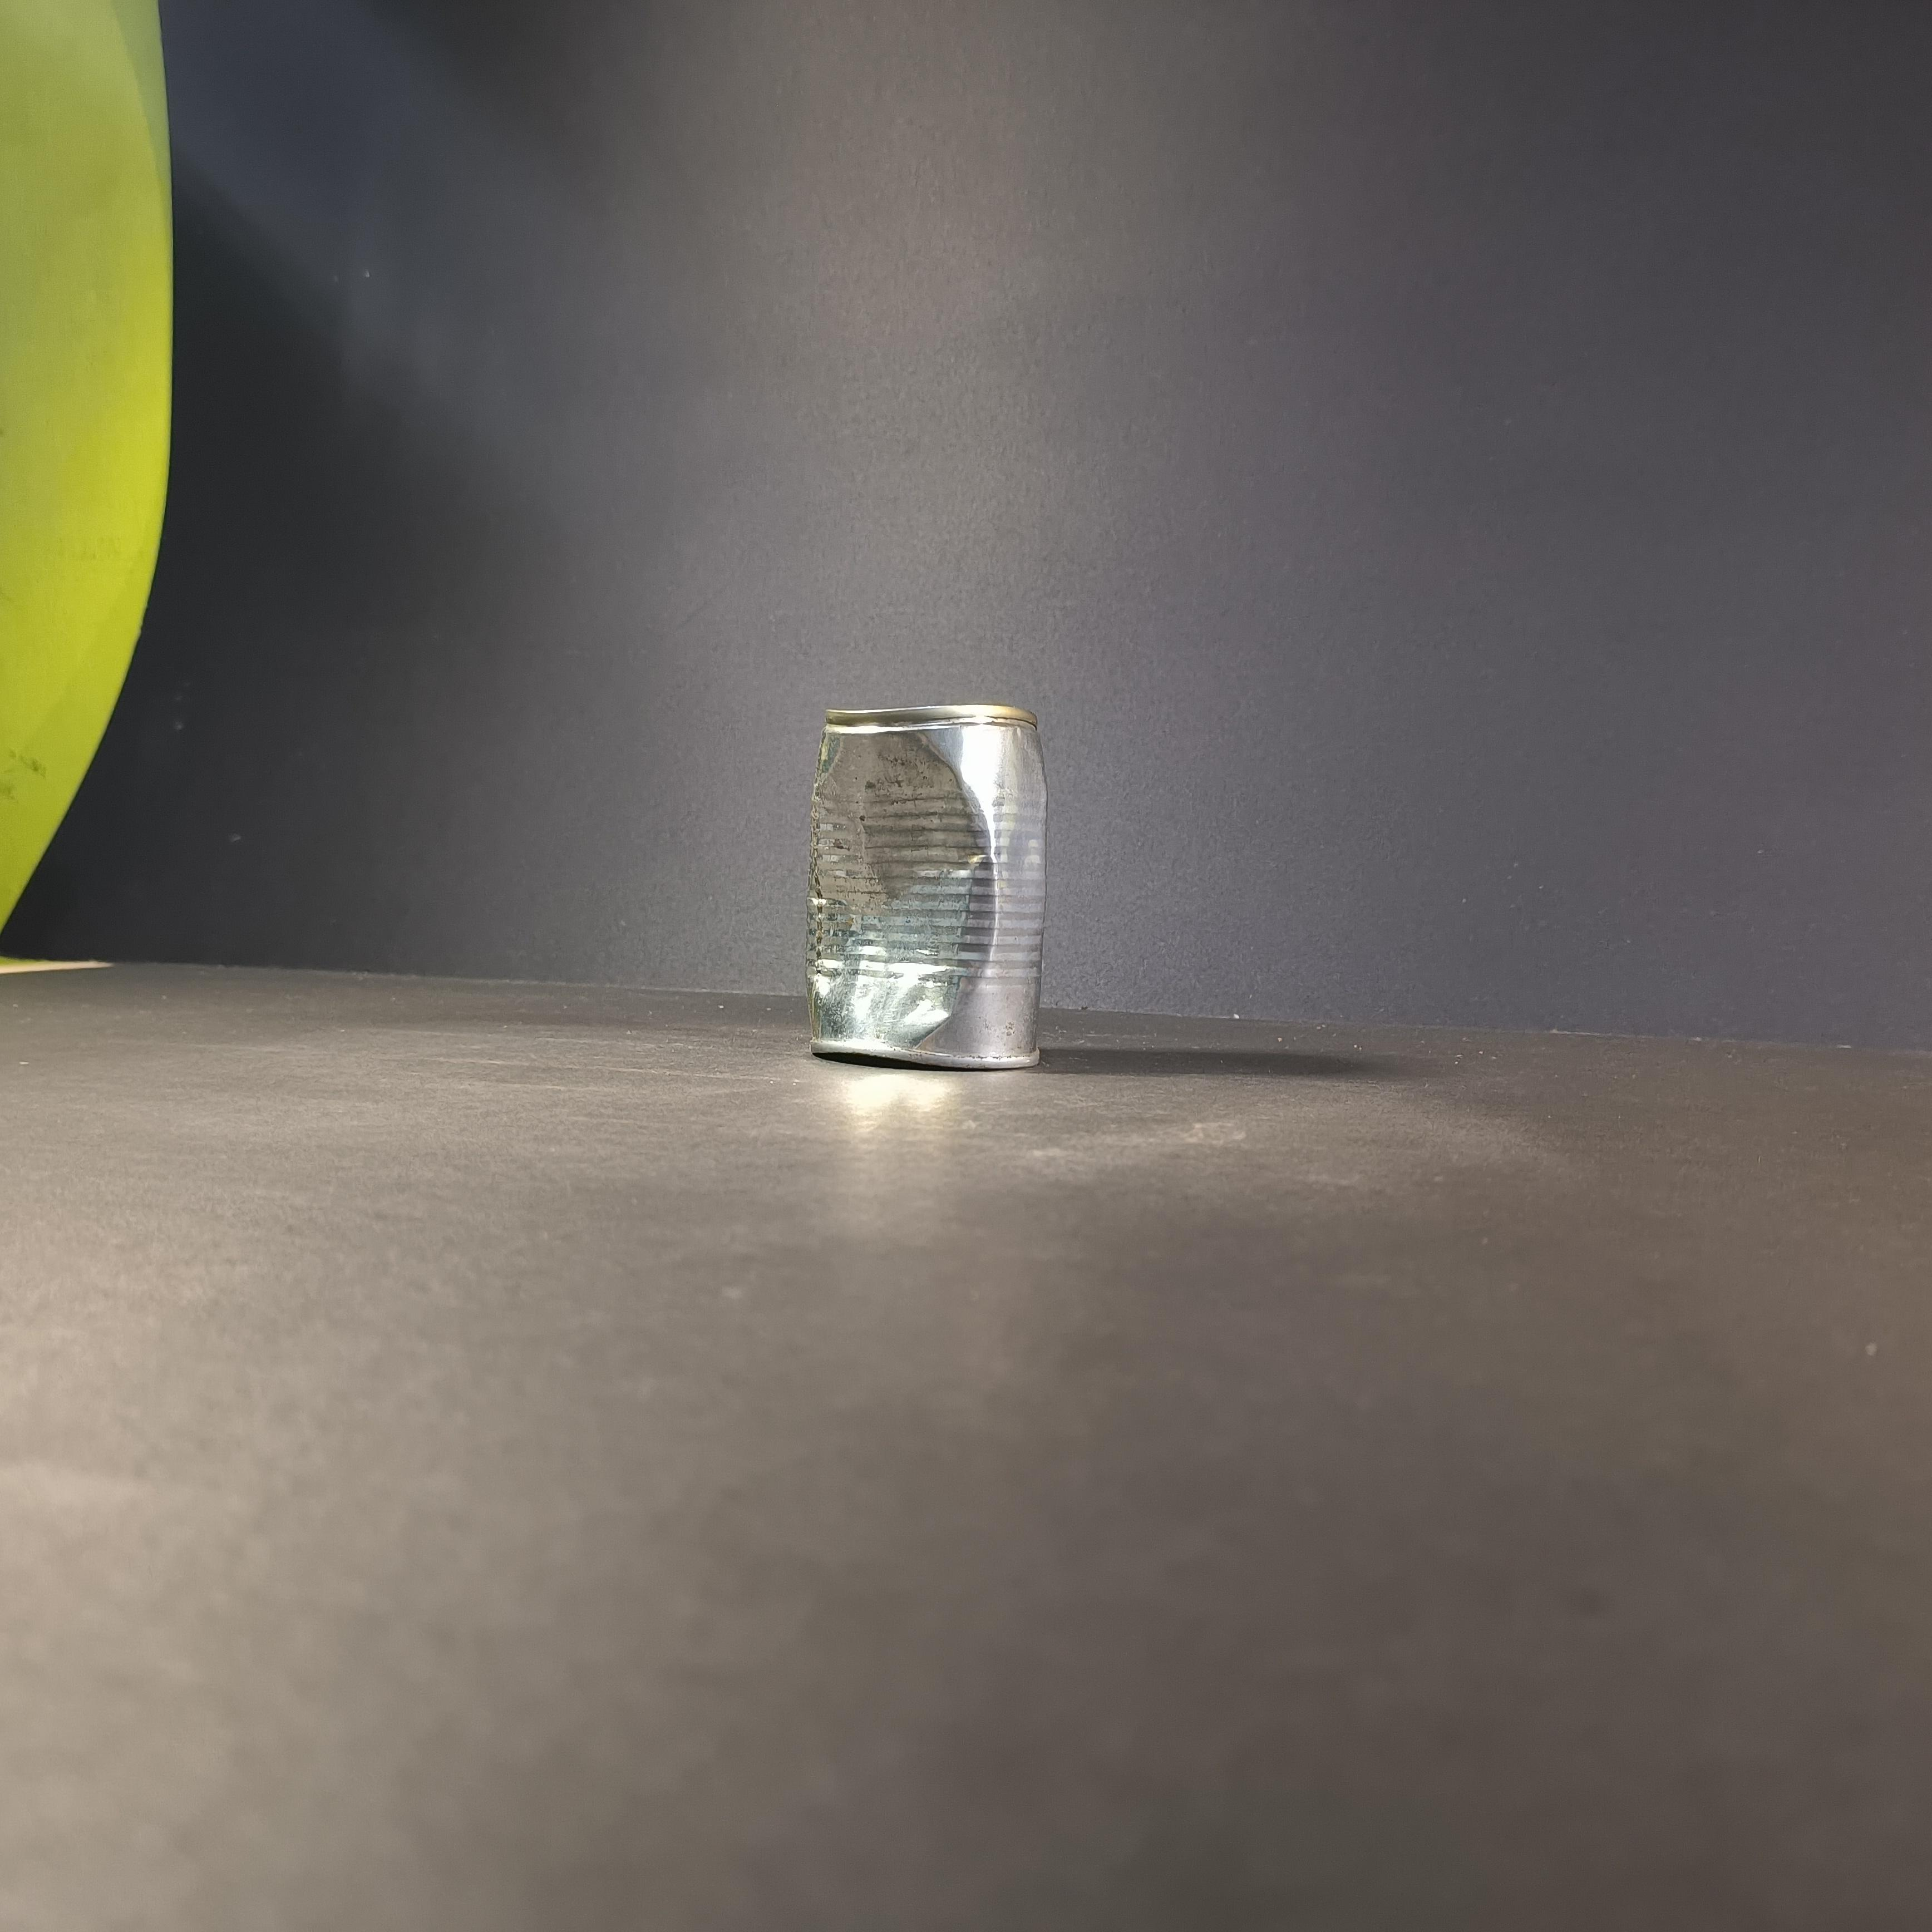Dented: (803, 690, 1063, 1069)
